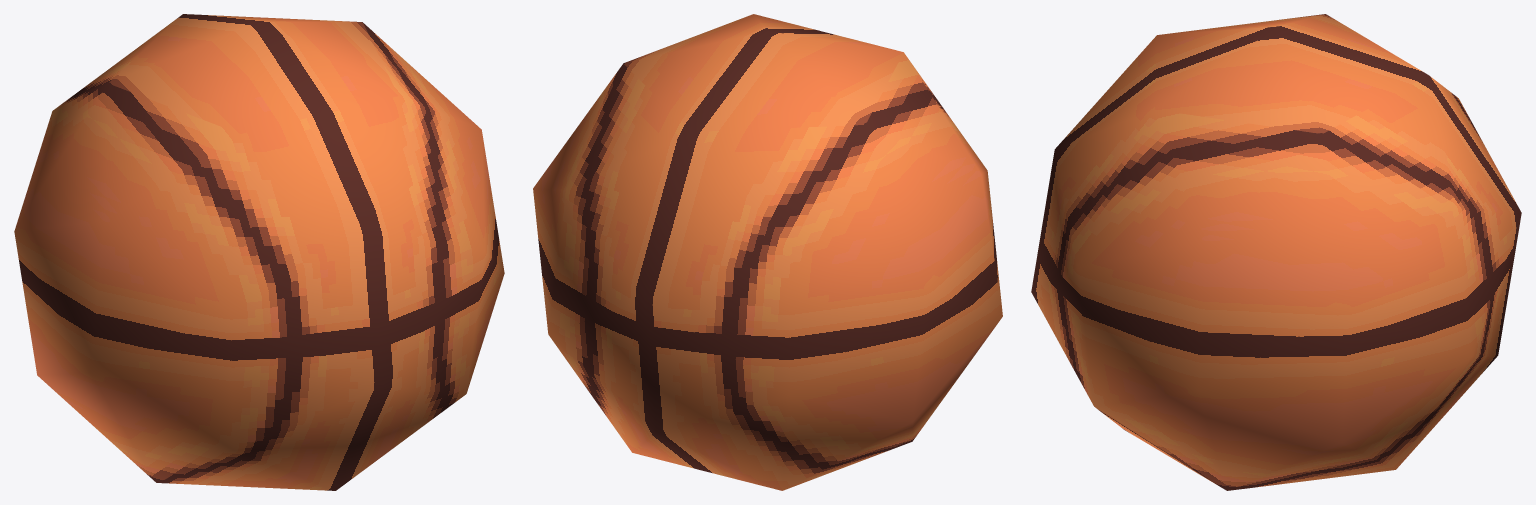
File: Basketball.obj
The picture shows the model from 3 angles, left to right: view 1: azimuth 30°, elevation 25°; view 2: azimuth 150°, elevation 25°; view 3: azimuth 270°, elevation 25°; orthographic projection. The views are drawn at different scales.
Visible parts, largest first — view 1: Mesh1 Group1 Model; view 2: Mesh1 Group1 Model; view 3: Mesh1 Group1 Model.
Part boxes in pixels (x1,y1,x2,y2): Mesh1 Group1 Model: [14, 14, 504, 490]; Mesh1 Group1 Model: [533, 14, 1002, 490]; Mesh1 Group1 Model: [1031, 14, 1521, 490].
Bounding box in the file's own units: 3.85 × 4.1 × 4.04.
1 material, 1 textured.
